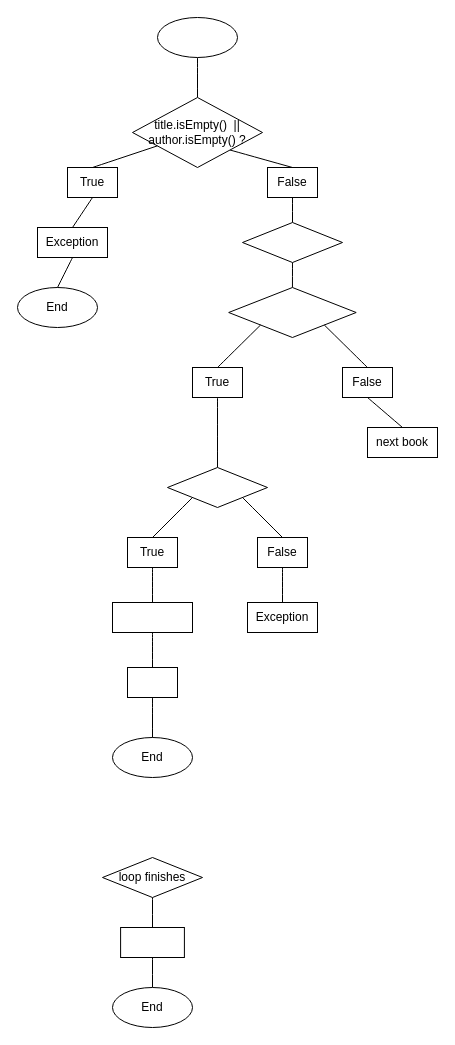
Image size: 455x1045. Some labels were removed from this diagram. The centre of each missing label's shape, as x and y in pixels:
"!borrowed ?" belongs at (217,487).
"Book not found" belongs at (152,942).
"for loop" belongs at (292,242).
"Return" belongs at (152,682).
"setBorrowed" belongs at (152,617).
"Start" belongs at (197,37).
"title+author match ?" belongs at (292,312).
